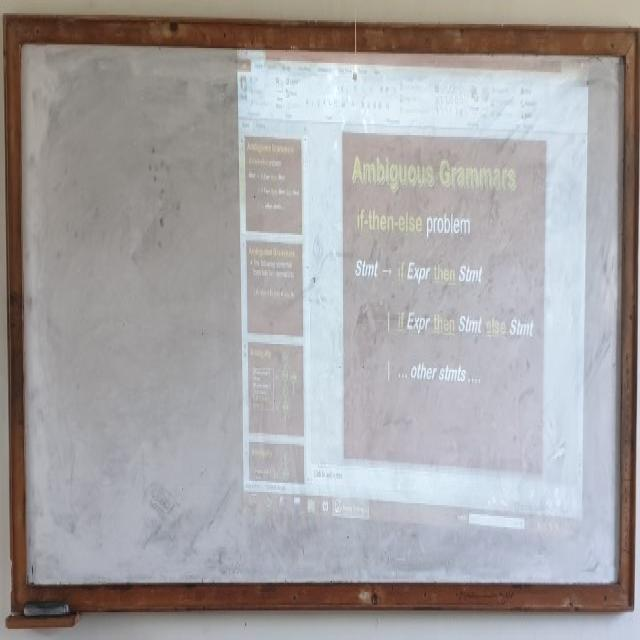Slide: (237, 29, 588, 544)
White-board: (15, 20, 632, 600)
